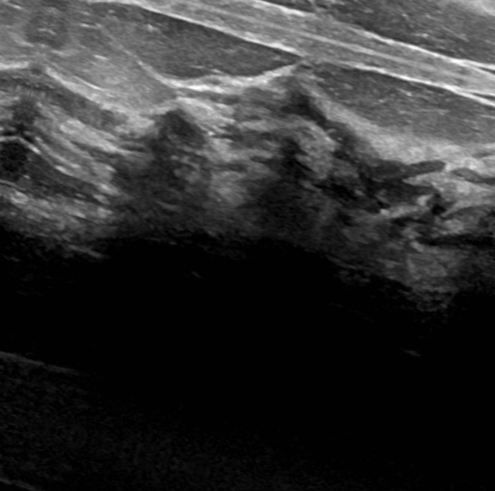Normal: (1, 0, 495, 455)
